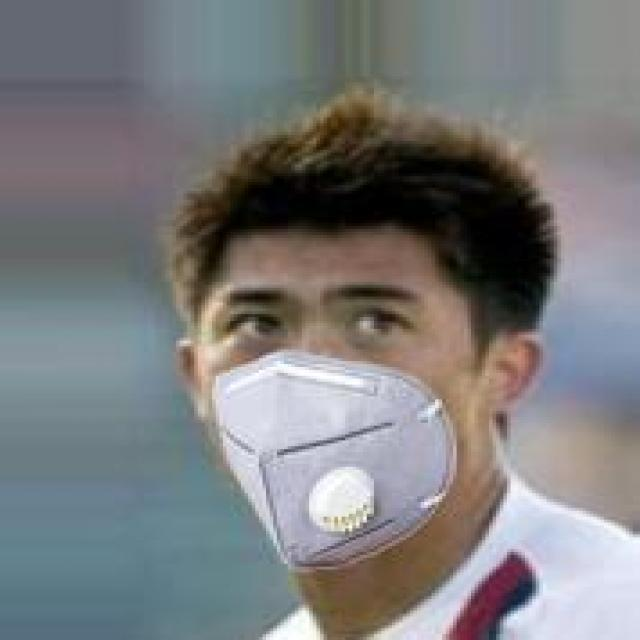mask: (148, 59, 582, 599)
